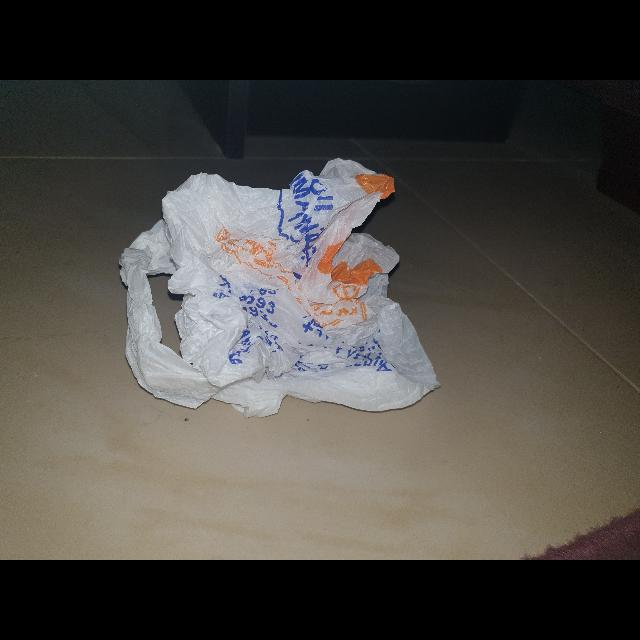plastic_bag: (115, 146, 463, 430)
